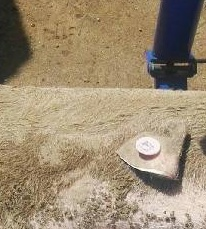text: (124, 120, 169, 170)
